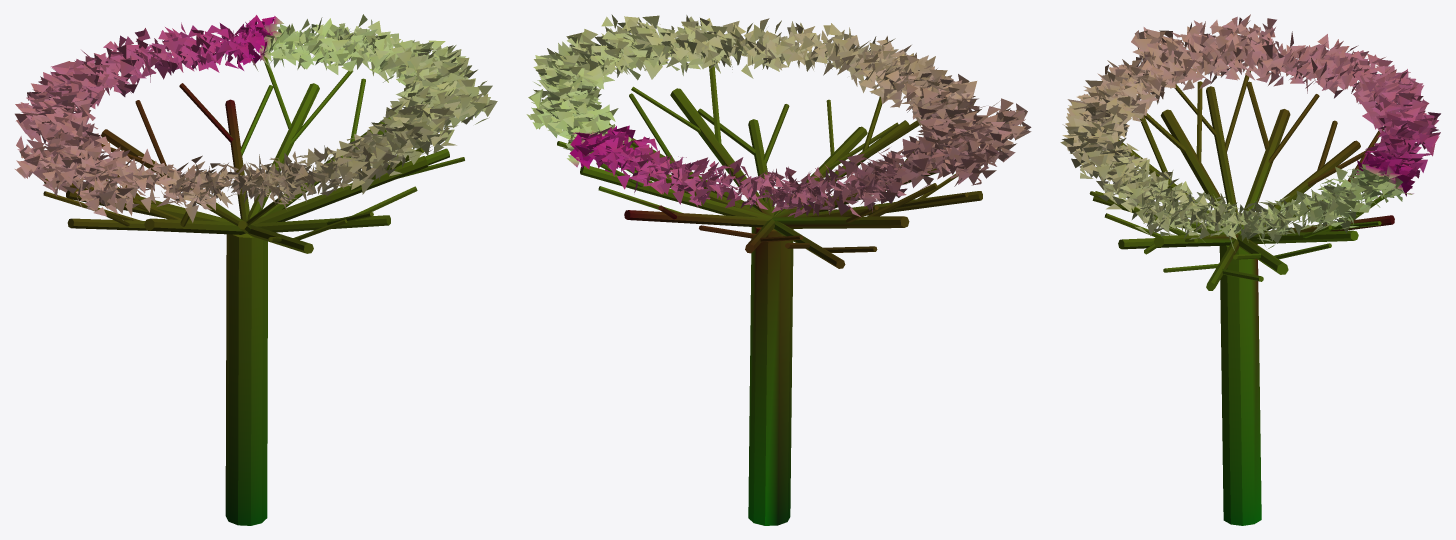
The model's file is ecological_savanna_ancient_01.glb.
The picture shows the model from 3 angles, left to right: view 1: azimuth 30°, elevation 25°; view 2: azimuth 150°, elevation 25°; view 3: azimuth 270°, elevation 25°; orthographic projection. The views are drawn at different scales.
Visible parts, largest first — view 1: ecological_savanna_ancient_01; view 2: ecological_savanna_ancient_01; view 3: ecological_savanna_ancient_01.
Boxes of the visible parts, x1,y1,x2,y2 form: ecological_savanna_ancient_01: (15,14,497,525); ecological_savanna_ancient_01: (526,14,1031,525); ecological_savanna_ancient_01: (1060,14,1440,525).
Size of the model in its own units: 34.6 by 31.2 by 26.67.
